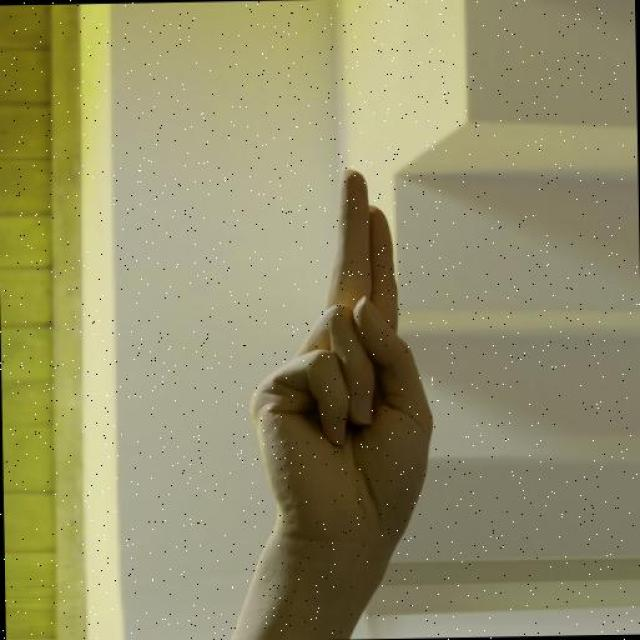U: (244, 168, 438, 548)
